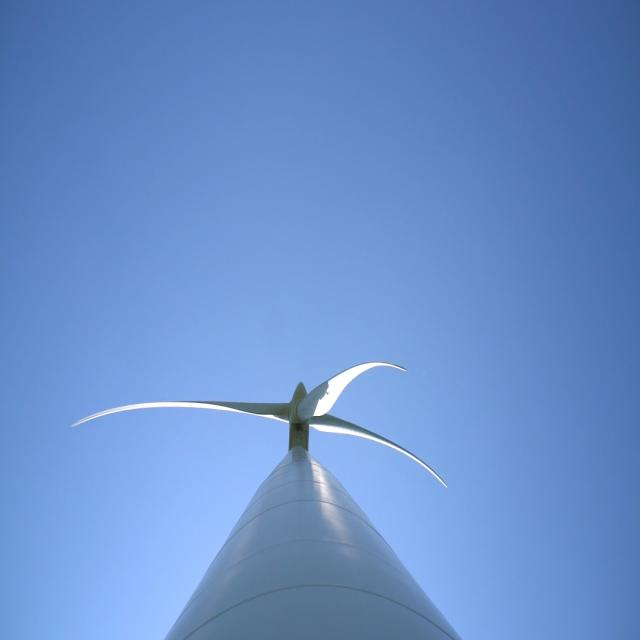blade 1: (34, 368, 286, 432)
blade 2: (311, 348, 423, 405)
blade 3: (361, 420, 456, 500)
